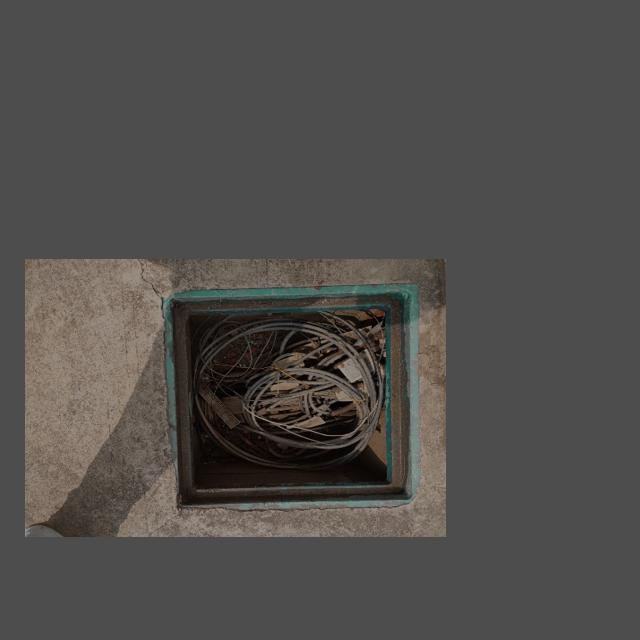lose: (162, 283, 418, 510)
